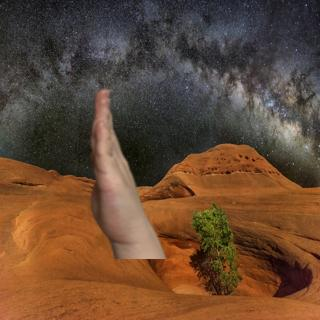RIGHT: (86, 84, 155, 245)
